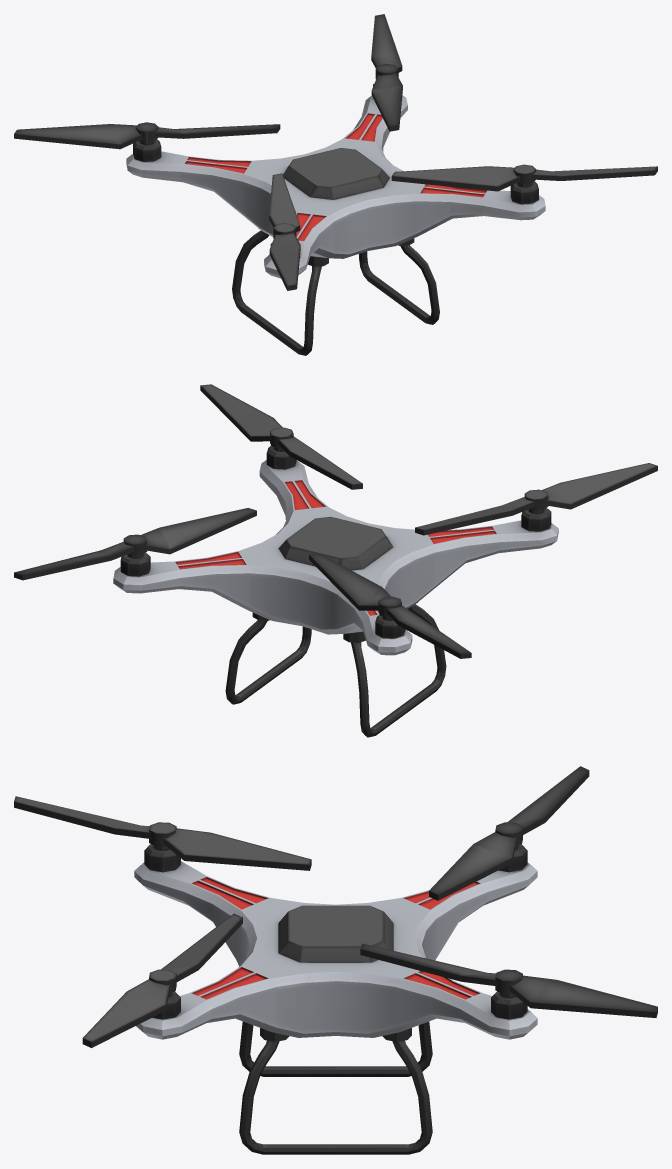
The model's file is Drone.fbx.
3 renders of one model, top to bottom at view 1: azimuth 30°, elevation 25°; view 2: azimuth 150°, elevation 25°; view 3: azimuth 270°, elevation 25°, orthographic. The views are drawn at different scales.
Visible parts, largest first — view 1: MainBody, Wing4, Wing2, Wing3, Wing1; view 2: MainBody, Wing3, Wing1, Wing2, Wing4; view 3: MainBody, Wing3, Wing1, Wing4, Wing2.
Part boxes in pixels (<box>): MainBody: <box>126,83,545,355</box>; Wing4: <box>391,164,657,191</box>; Wing2: <box>14,122,280,149</box>; Wing3: <box>269,173,300,290</box>; Wing1: <box>371,14,402,131</box>; MainBody: <box>113,446,558,737</box>; Wing3: <box>415,463,657,535</box>; Wing1: <box>14,508,256,580</box>; Wing2: <box>309,553,471,658</box>; Wing4: <box>200,384,362,489</box>; MainBody: <box>134,844,537,1154</box>; Wing3: <box>14,796,311,870</box>; Wing1: <box>360,943,657,1017</box>; Wing4: <box>82,913,242,1047</box>; Wing2: <box>429,766,589,900</box>.
Bounding box in the file's own units: 180 × 64.94 × 177.
